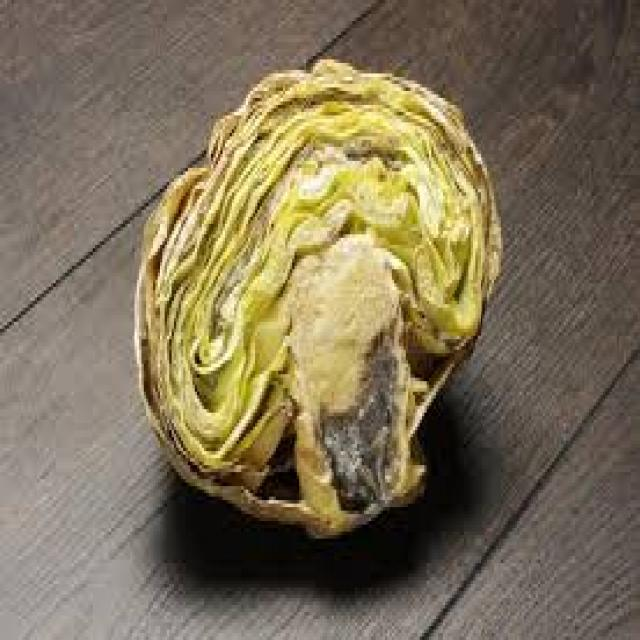organic waste: (130, 53, 501, 535)
